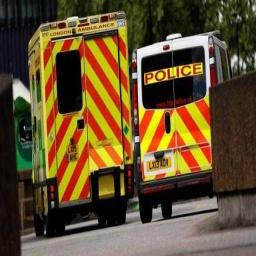Ambulance: (28, 12, 133, 235), (132, 31, 230, 222)
